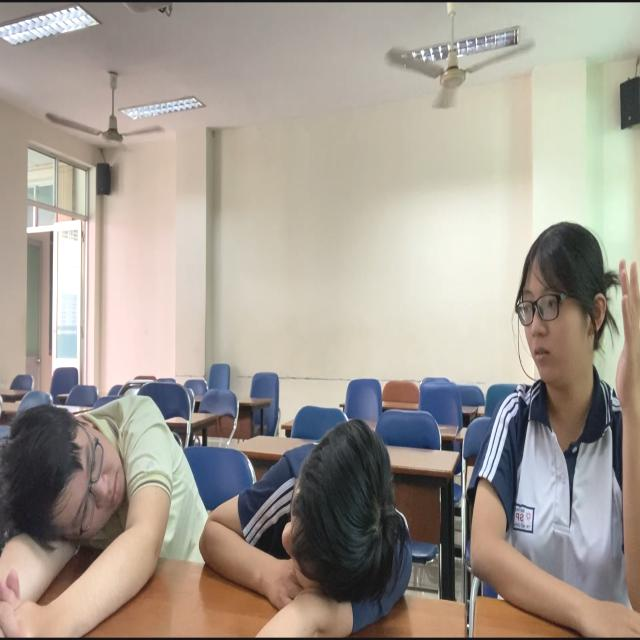raise_hand: (455, 196, 640, 640)
sleep: (182, 386, 408, 640), (1, 361, 194, 640)
